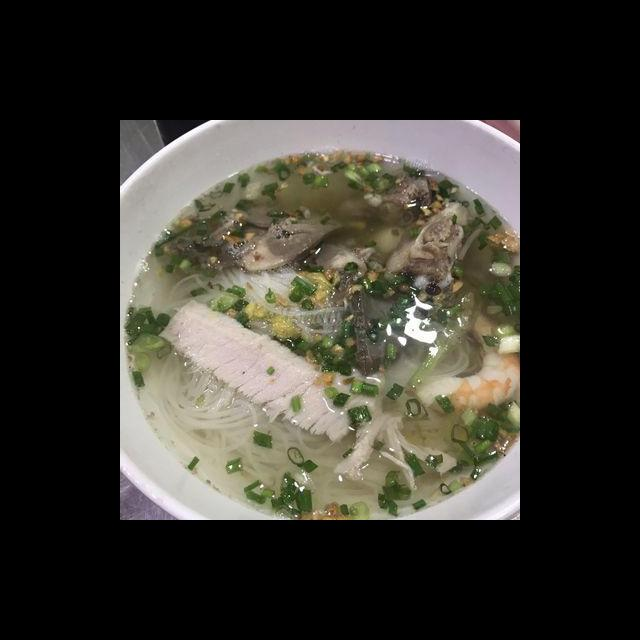banh hu tieu: (147, 346, 325, 505)
hu tieu: (120, 161, 519, 520), (174, 257, 349, 359), (384, 317, 485, 421)
thit heo: (156, 296, 385, 445)
tom: (410, 309, 520, 413)
